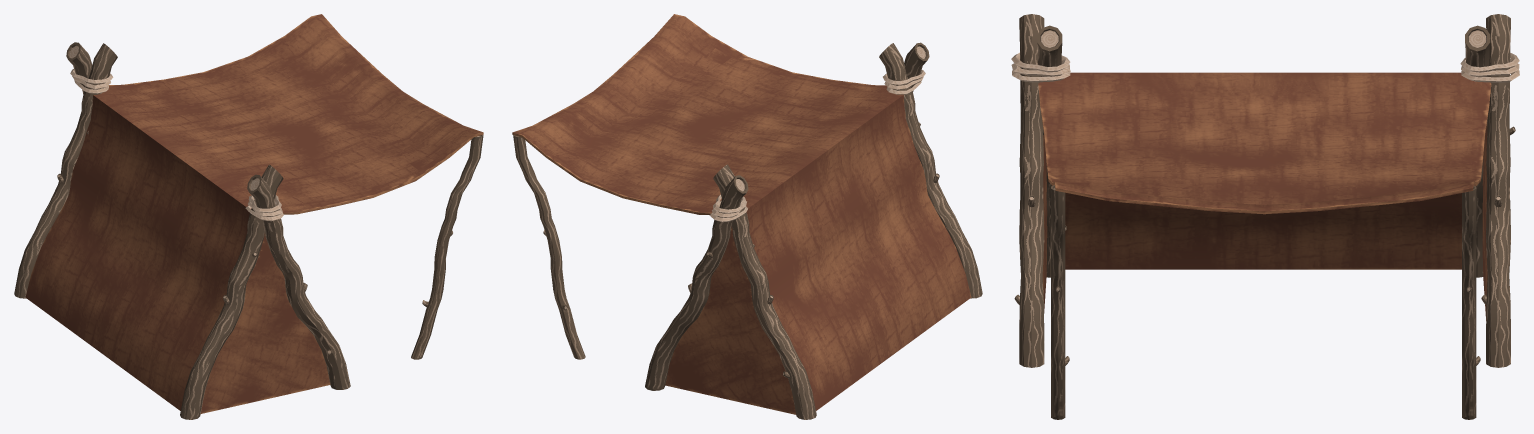
File: tent_brown.fbx
3 renders of one model, left to right at view 1: azimuth 30°, elevation 25°; view 2: azimuth 150°, elevation 25°; view 3: azimuth 270°, elevation 25°, orthographic. The views are drawn at different scales.
Parts seen in each view (by area): view 1: tent_brown; view 2: tent_brown; view 3: tent_brown.
Boxes of the visible parts, box(x1,y1,x2,y2) form: tent_brown: box(14, 14, 483, 419); tent_brown: box(512, 14, 982, 419); tent_brown: box(1011, 14, 1519, 419).
Bounding box in the file's own units: 324 × 234 × 362.
1 material, 1 textured.
